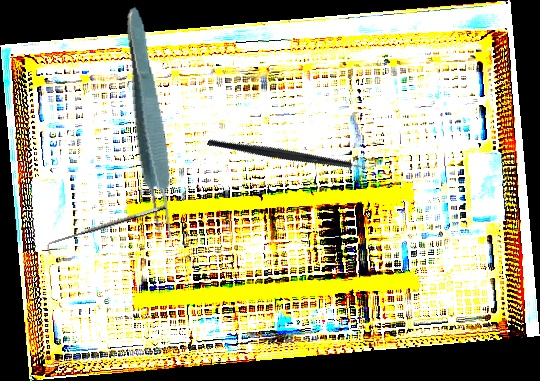Chopper: (206, 82, 384, 223)
Hook Surgical: (44, 203, 169, 255)
Tissue Forceps: (117, 5, 181, 244)
